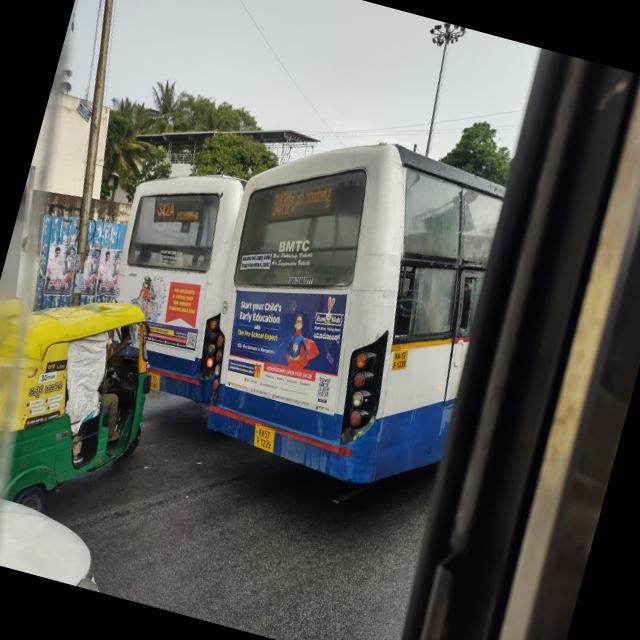bus: (155, 95, 526, 562), (77, 146, 276, 416)
display: (269, 168, 336, 229), (149, 191, 203, 232)
dnumber: (270, 188, 293, 218), (154, 198, 177, 220)
